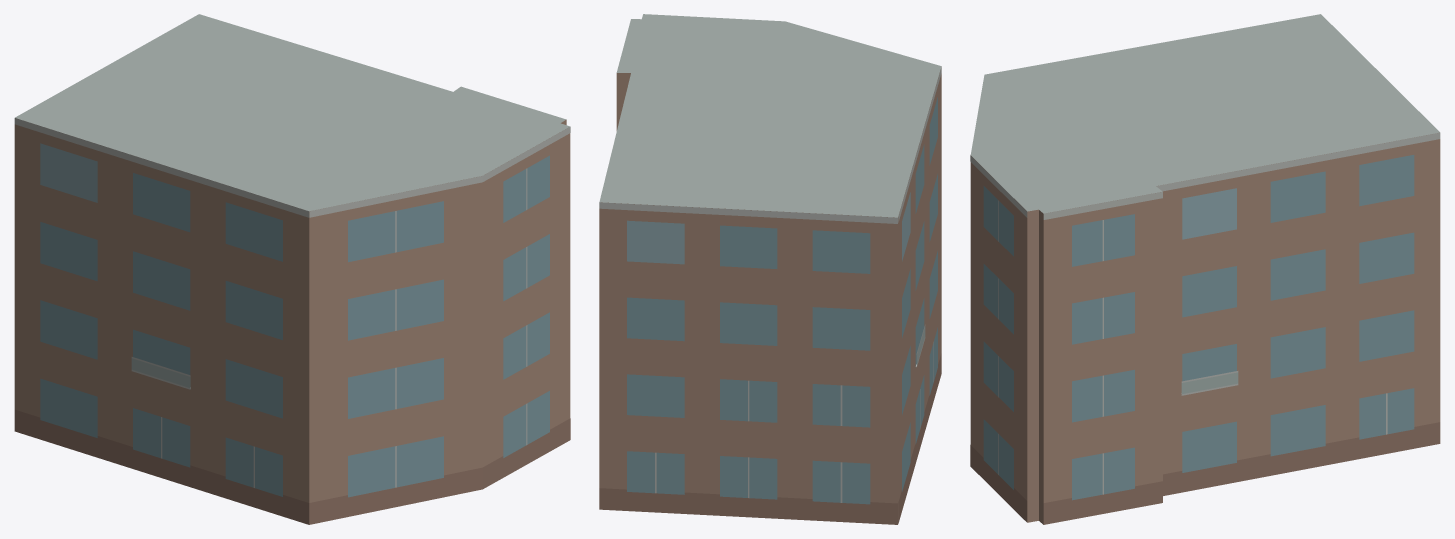
File: survey-upis-32750235.glb
The picture shows the model from 3 angles, left to right: view 1: azimuth 30°, elevation 25°; view 2: azimuth 150°, elevation 25°; view 3: azimuth 270°, elevation 25°; orthographic projection. The views are drawn at different scales.
Visible parts, largest first — view 1: survey-upis-32750235.tmp; view 2: survey-upis-32750235.tmp; view 3: survey-upis-32750235.tmp.
Part boxes in pixels (left/top/right/bottom): survey-upis-32750235.tmp: left=14, top=14, right=570, bottom=524; survey-upis-32750235.tmp: left=599, top=14, right=941, bottom=524; survey-upis-32750235.tmp: left=970, top=14, right=1440, bottom=524.
Bounding box in the file's own units: 16.11 × 11.7 × 16.02.
